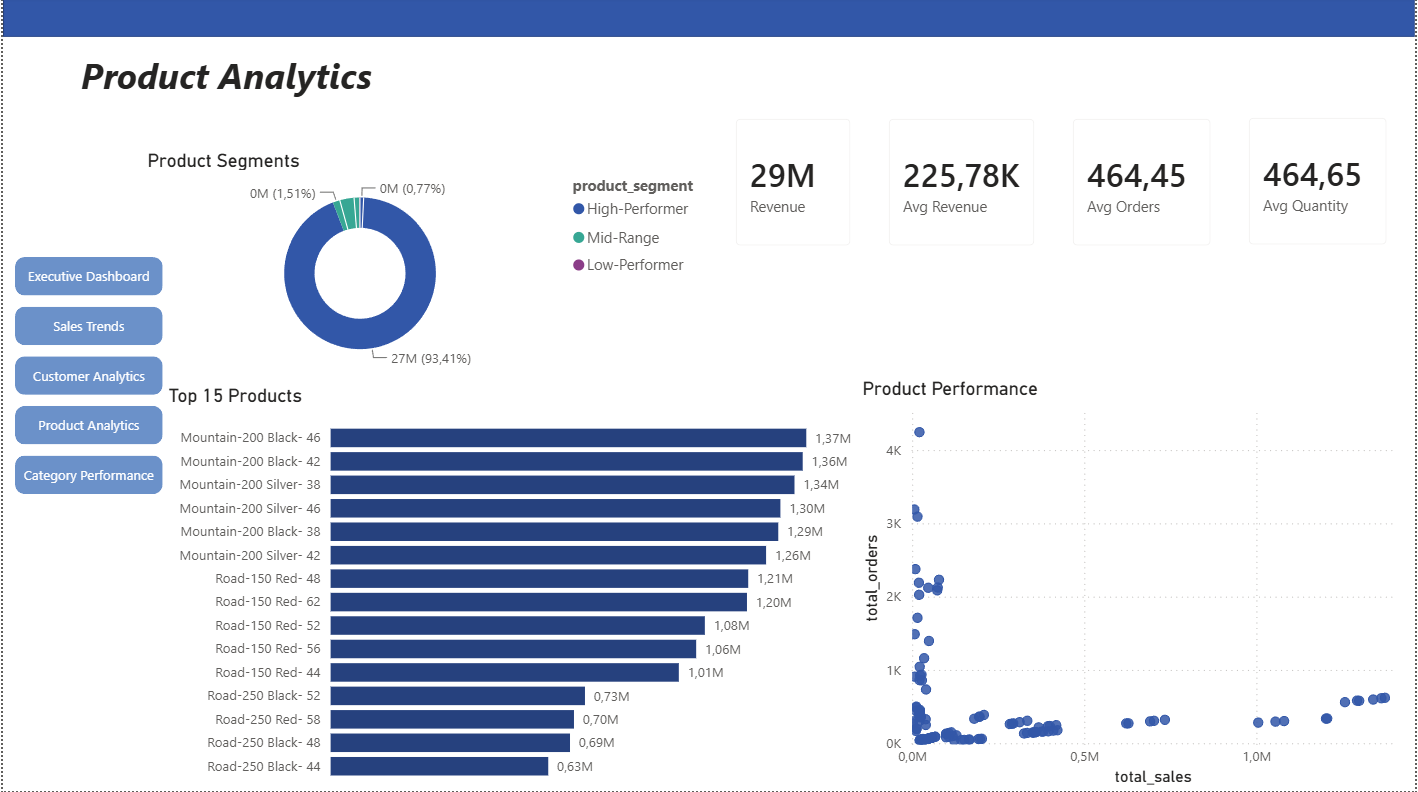

Layout of this report page (visuals, bound fields, positions):
{"tool":"powerbi","page":{"name":"Product Analytics","canvas":[1280,720],"ordinal":3},"visuals":[{"type":"donutChart","title":"Product Segments","fields":{"Y":["Sum(gold report_products.total_sales)"],"Category":["gold report_products.product_segment"],"Series":["gold report_products.category"]},"box":[126,137.8,521.4,206.8],"z":0},{"type":"barChart","title":"Top 15 Products","fields":{"Category":["gold report_products.product_name"],"Y":["Sum(gold report_products.total_sales)","select"]},"box":[145.1,350.9,629.3,369.1],"z":1000},{"type":"textbox","box":[0,43.5,405.3,67.1],"z":2000},{"type":"cardVisual","fields":{"Data":["Avg(gold report_products.total_orders)"]},"box":[953,93.4,159.6,149.6],"z":3000},{"type":"cardVisual","fields":{"Data":["Avg(gold report_products.total_quantity)"]},"box":[1112.6,92.5,159.6,149.6],"z":4000},{"type":"cardVisual","fields":{"Data":["Avg(gold report_products.total_sales)"]},"box":[786.2,93.4,166.9,149.6],"z":5000},{"type":"cardVisual","fields":{"Data":["Sum(gold report_products.total_sales)"]},"box":[647.5,93.4,138.7,149.6],"z":6000},{"type":"scatterChart","title":"Product Performance","fields":{"X":["gold report_products.total_sales"],"Y":["gold report_products.total_orders"]},"box":[774.4,344.6,506,375.4],"z":7000},{"type":"shape","box":[0,0,1280.4,36.3],"z":8000},{"type":"pageNavigator","box":[10.9,235.8,134.2,217.6],"z":9000}]}

Visuals, with their boxes in screenshot pixels (x1, y1, x2, y2), scaled from the page's 1280x720 canvas onto the 1418x792 screenshot:
"Product Segments" donutChart: [x1=140, y1=152, x2=717, y2=379]
"Top 15 Products" barChart: [x1=161, y1=386, x2=858, y2=791]
textbox: [x1=0, y1=48, x2=449, y2=122]
cardVisual - Avg(gold report_products.total_orders): [x1=1056, y1=103, x2=1233, y2=267]
cardVisual - Avg(gold report_products.total_quantity): [x1=1233, y1=102, x2=1409, y2=266]
cardVisual - Avg(gold report_products.total_sales): [x1=871, y1=103, x2=1056, y2=267]
cardVisual - Sum(gold report_products.total_sales): [x1=717, y1=103, x2=871, y2=267]
"Product Performance" scatterChart: [x1=858, y1=379, x2=1417, y2=791]
shape: [x1=0, y1=0, x2=1417, y2=40]
pageNavigator: [x1=12, y1=259, x2=161, y2=499]
